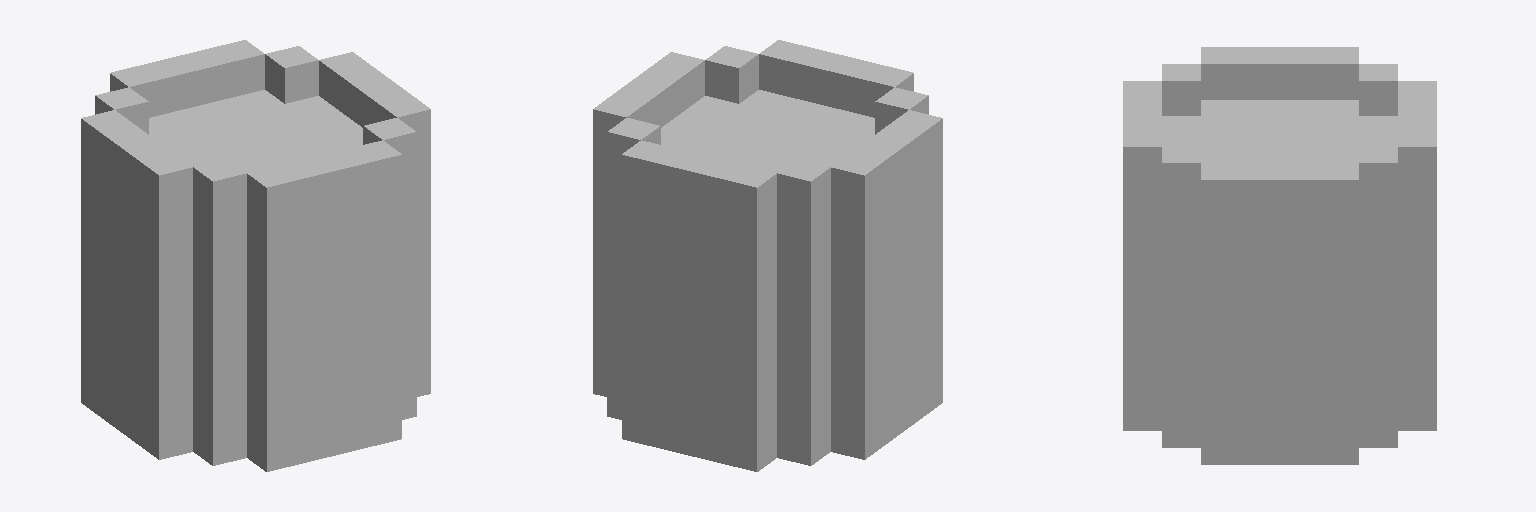
File: barril.obj
The picture shows the model from 3 angles: view 1: azimuth 30°, elevation 25°; view 2: azimuth 150°, elevation 25°; view 3: azimuth 270°, elevation 25°; orthographic projection.
Visible parts, largest first — view 1: object 1; view 2: object 1; view 3: object 1.
Part boxes in pixels (x1,y1,x2,y2): object 1: (81,40,430,471); object 1: (593,40,942,471); object 1: (1123,47,1436,464).
Bounding box in the file's own units: 0.8 × 0.8 × 0.8.